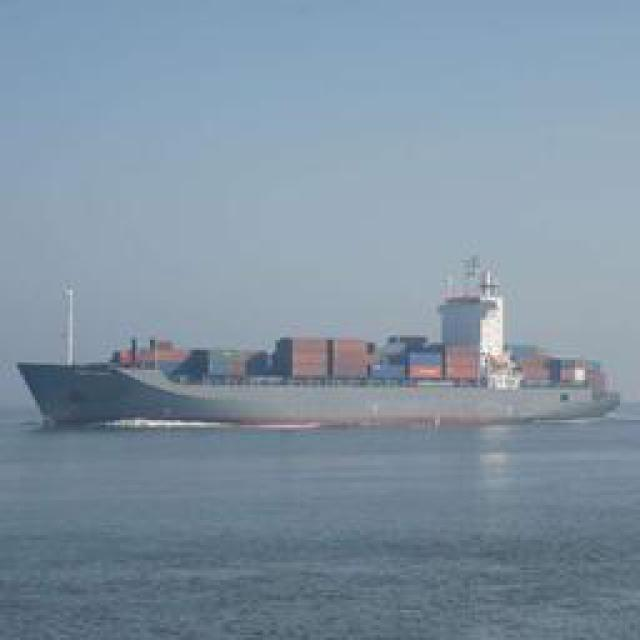Ship: (15, 309, 620, 429)
